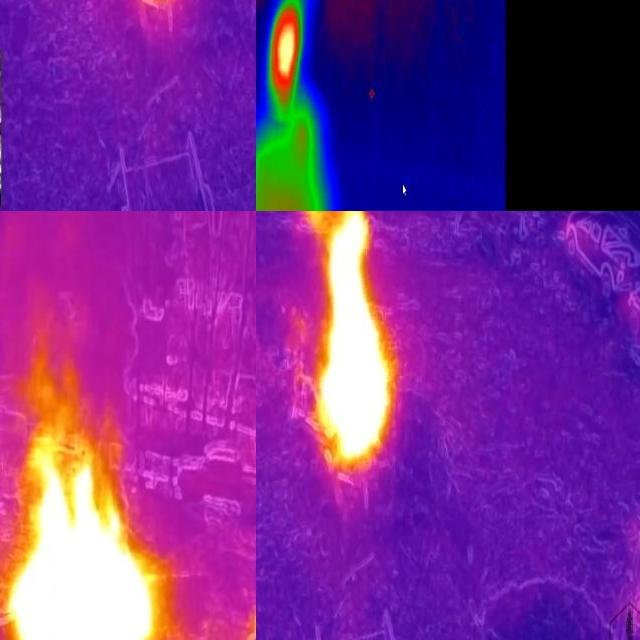fire: (10, 434, 156, 640), (316, 212, 395, 475), (270, 1, 308, 118)
